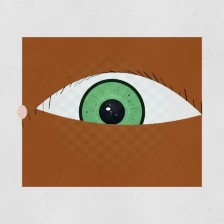pinguecula_lesion: (146, 97, 179, 124)
